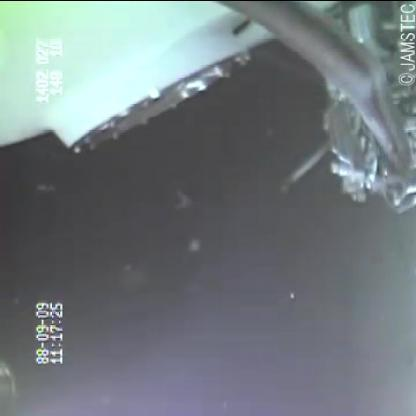Bio: (218, 1, 414, 183)
Rov: (323, 11, 415, 212)
